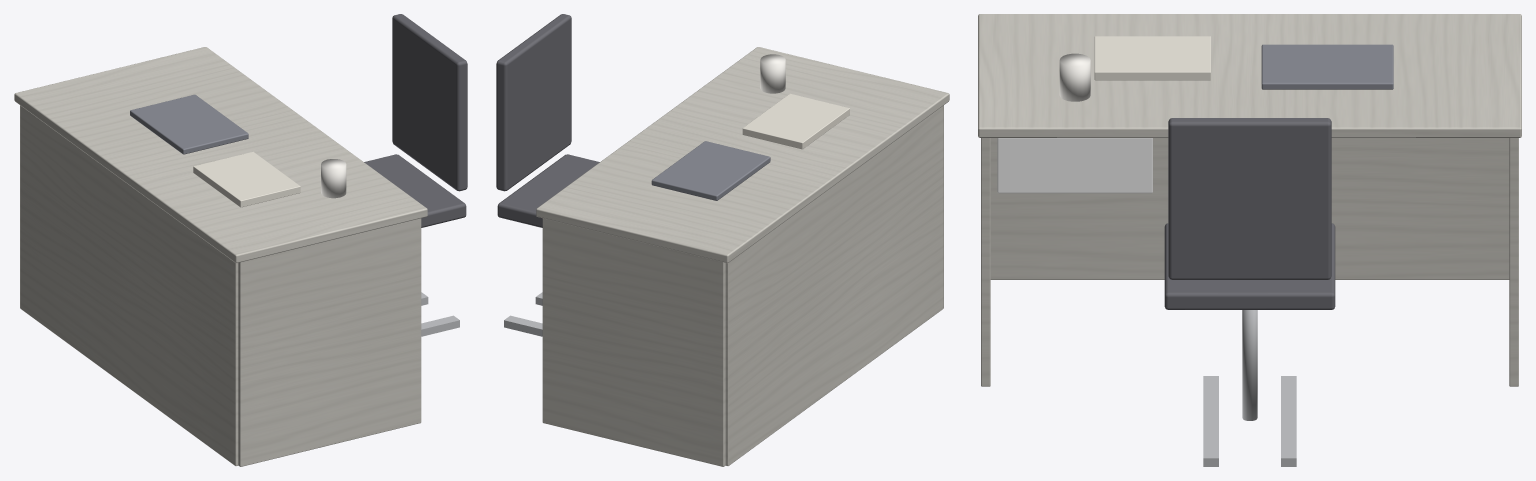
File: aula.escritorio_profe.fbx
3 renders of one model, left to right at view 1: azimuth 30°, elevation 25°; view 2: azimuth 150°, elevation 25°; view 3: azimuth 270°, elevation 25°, orthographic. The views are drawn at different scales.
Visible parts, largest first — view 1: Frente, Lateral.001, Cubierta, Respaldo, Notebook, Cuadernos, Asiento, Tazon, Base.001; view 2: Frente, Lateral, Cubierta, Respaldo, Notebook, Cuadernos, Asiento, Tazon, Base; view 3: Cubierta, Frente, Respaldo, Cajonera, Notebook, Asiento, Cuadernos, Lateral, Lateral.001, Pata, Tazon, Base (+1 smaller).
Boxes of the visible parts, x1,y1,x2,y2 form: Frente: [20, 105, 238, 465]; Lateral.001: [238, 218, 421, 466]; Cubierta: [14, 47, 427, 263]; Respaldo: [392, 14, 467, 191]; Notebook: [130, 94, 248, 154]; Cuadernos: [193, 151, 300, 207]; Asiento: [364, 154, 466, 227]; Tazon: [321, 159, 346, 198]; Base.001: [421, 315, 459, 336]; Frente: [725, 105, 943, 465]; Lateral: [542, 218, 725, 466]; Cubierta: [536, 47, 949, 263]; Respaldo: [496, 14, 571, 191]; Notebook: [651, 141, 770, 200]; Cuadernos: [742, 93, 849, 149]; Asiento: [497, 154, 599, 227]; Tazon: [760, 54, 785, 93]; Base: [504, 315, 542, 336]; Cubierta: [978, 14, 1521, 137]; Frente: [990, 138, 1509, 279]; Respaldo: [1168, 118, 1331, 279]; Cajonera: [997, 138, 1152, 193]; Notebook: [1261, 44, 1393, 89]; Asiento: [1164, 223, 1335, 309]; Cuadernos: [1094, 36, 1210, 80]; Lateral: [1509, 138, 1518, 386]; Lateral.001: [981, 138, 990, 386]; Pata: [1242, 310, 1257, 420]; Tazon: [1059, 53, 1090, 101]; Base: [1281, 376, 1296, 466].
Bounding box in the file's own units: 1.15 × 0.9675 × 1.4.
7 materials, 1 textured.
